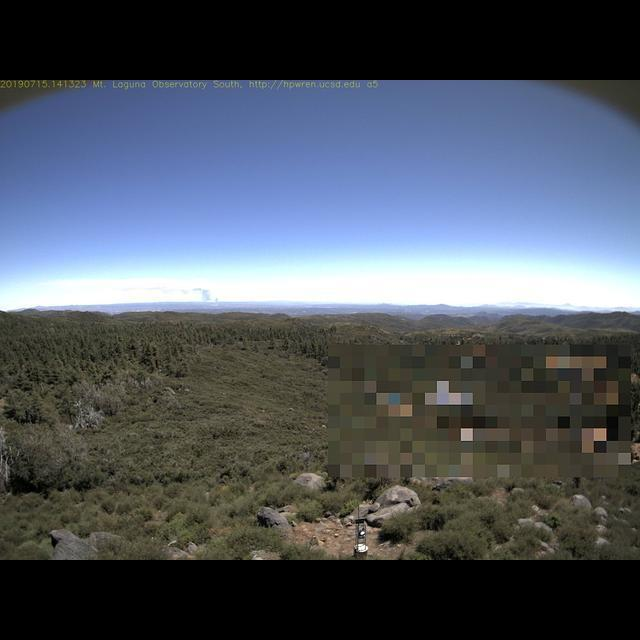Smoke: (182, 280, 217, 305)
